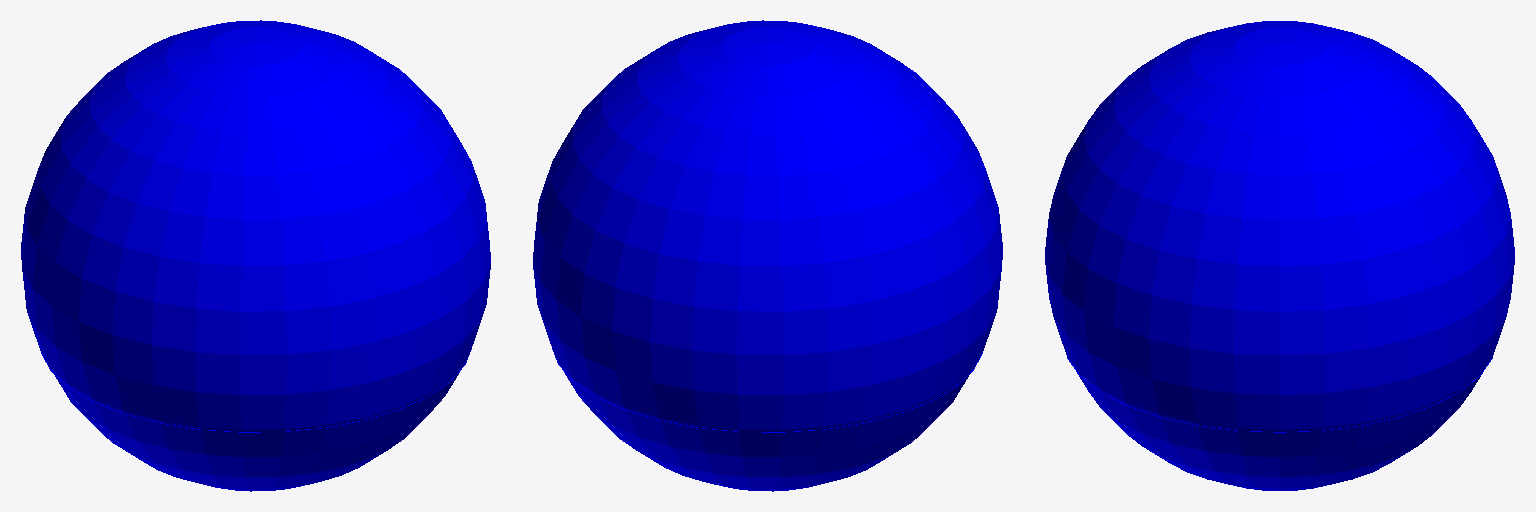
robot.urdf — shadow:
<?xml version="1.0" ?>
<robot name="shadow">
  <link name="baseLink">
    <inertial>
      <origin rpy="1.57075 0 0" xyz="0 0 0"/>
       <mass value="0.0"/>
       <inertia ixx="0" ixy="0" ixz="0" iyy="0" iyz="0" izz="0"/>
    </inertial>
    <visual>
      <origin rpy="1.57075 0 0" xyz="0 0 0"/>
      <geometry>
			<mesh filename="sphere.obj" scale="1 1 1"/>      
      </geometry>
      <material name="red">
        <color rgba="0 0 1 0.4"/>
        <!-- <specular rgb="11 1 1"/> -->
      </material>
    </visual>
    <visual>
      <origin rpy="1.57075 0 0" xyz="0 0 -0.399"/>
      <geometry>
			<mesh filename="circle.obj" scale="0.92 0.92 0.92"/>      
      </geometry>
      <material name="red">
        <color rgba="0 0 1 0.4"/>
      </material>
    </visual>
  </link>
</robot>

--- What the picture shows (computed from the rendered views, not written in the file) ---
Views: 3 orthographic renders of the robot side by side, from view 1: azimuth 30°, elevation 25°; view 2: azimuth 150°, elevation 25°; view 3: azimuth 270°, elevation 25°.
Model shadow with 1 links and 0 joints (none), rooted at baseLink, posed every joint at zero.
Visible links, largest first — view 1: baseLink; view 2: baseLink; view 3: baseLink.
Link boxes in pixels (x1=…): baseLink: x1=21, y1=20, x2=490, y2=491; baseLink: x1=533, y1=20, x2=1002, y2=491; baseLink: x1=1045, y1=21, x2=1514, y2=490.
Bounding box of the posed robot: 2 × 2 × 2 m (x, y, z).
Meshes: 2 distinct files referenced, 2 mesh visuals loaded (2 OBJ).